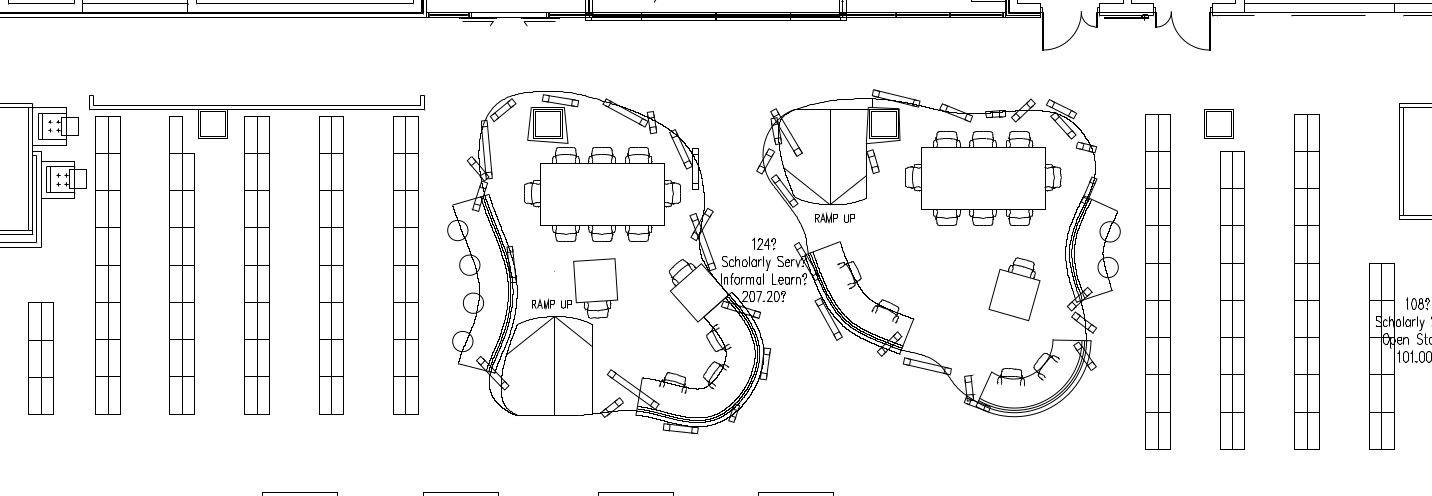door: (1153, 10, 1213, 56), (1041, 12, 1098, 53)
